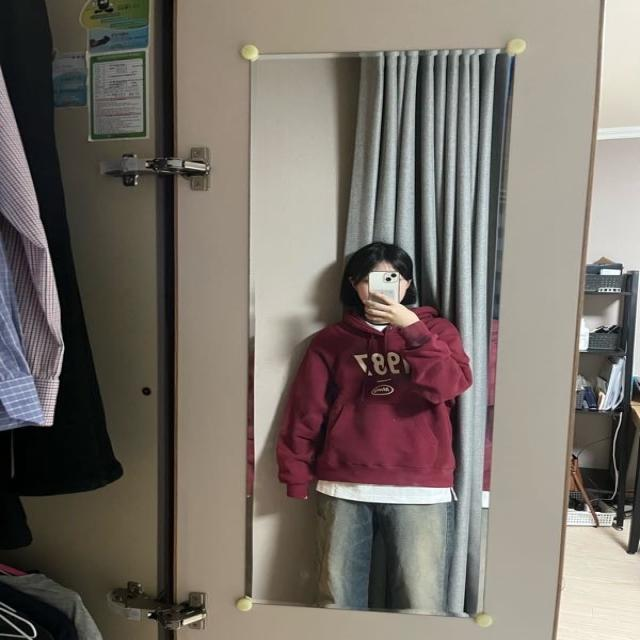denimpants: (318, 497, 450, 613)
hoodies: (279, 305, 476, 498)
